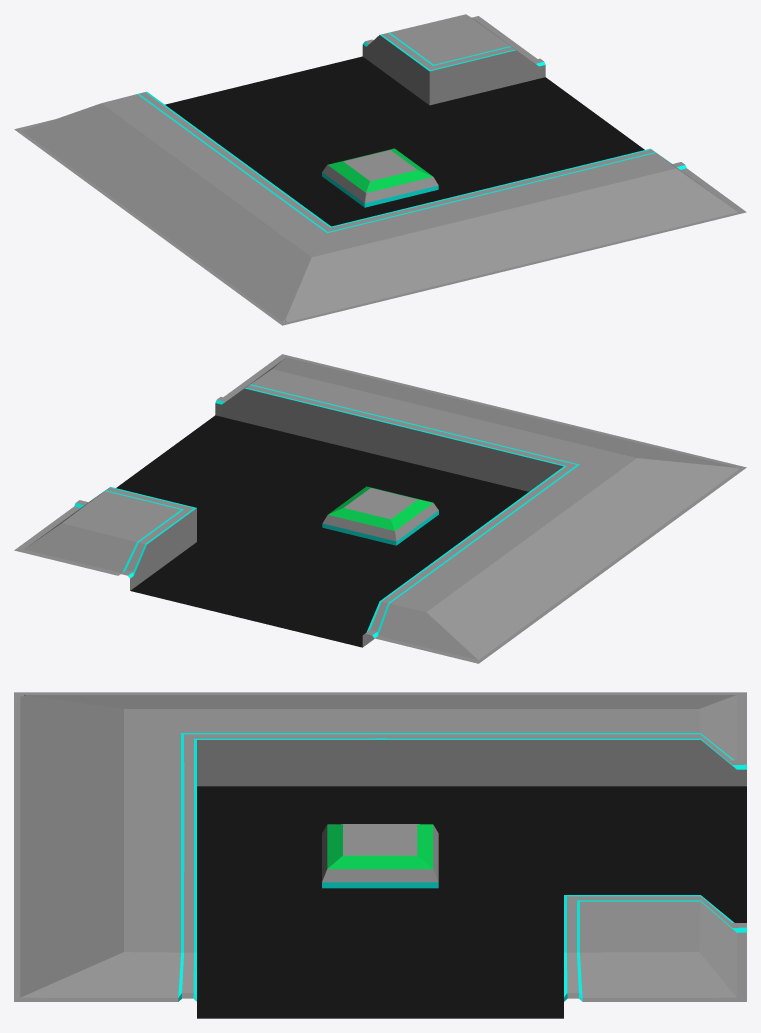
Rendered from rail_plate_corner_01.FBX.
The picture shows the model from 3 angles, top to bottom: view 1: azimuth 30°, elevation 25°; view 2: azimuth 150°, elevation 25°; view 3: azimuth 270°, elevation 25°; orthographic projection. The views are drawn at different scales.
Parts seen in each view (by area): view 1: rail_plate_corner_01; view 2: rail_plate_corner_01; view 3: rail_plate_corner_01.
Part boxes in pixels (bbox=[...]): rail_plate_corner_01: bbox=[14, 14, 746, 325]; rail_plate_corner_01: bbox=[14, 354, 746, 663]; rail_plate_corner_01: bbox=[14, 692, 746, 1018].
Size of the model in its own units: 400 by 27.96 by 400.
